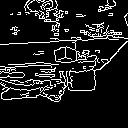cube: (52, 43, 78, 66)
